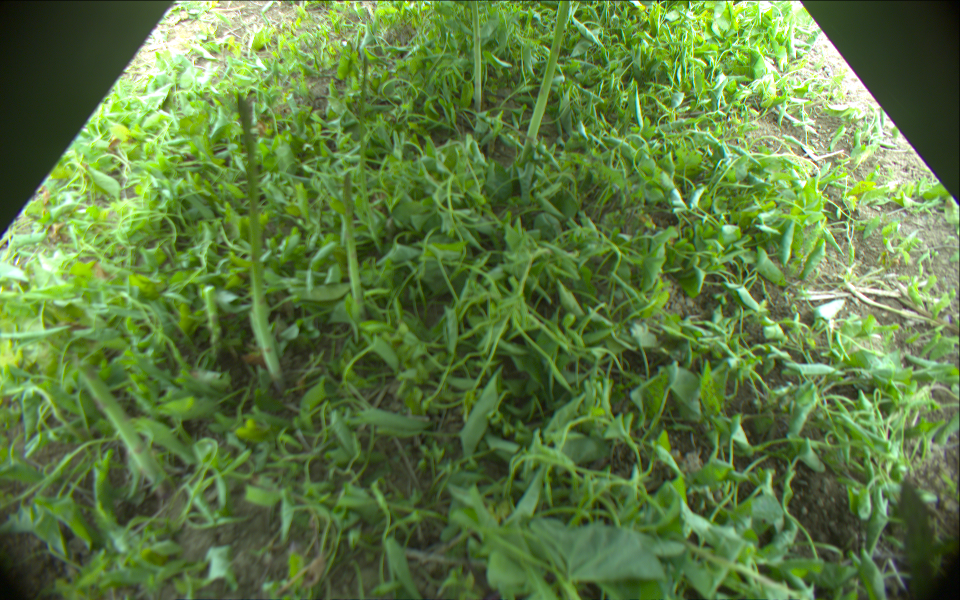aspa: (236, 93, 283, 387), (82, 363, 158, 483), (521, 1, 571, 160), (358, 55, 385, 249), (342, 172, 363, 314), (471, 1, 481, 113)
